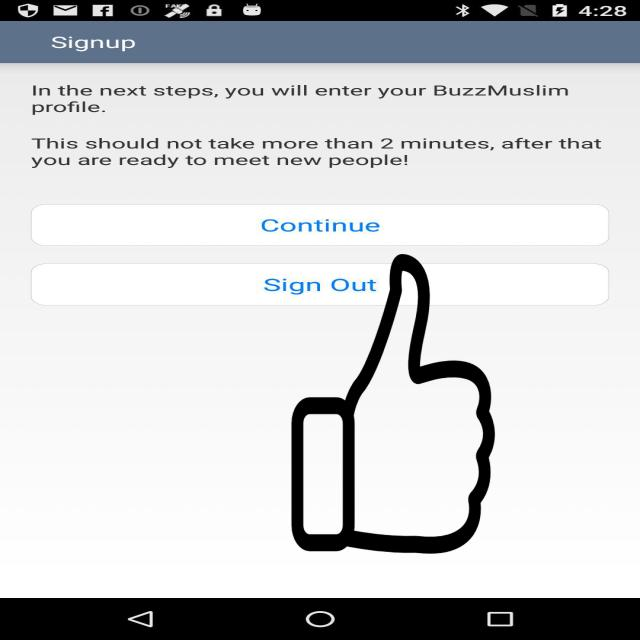privacy zuckering: (288, 254, 498, 554)
